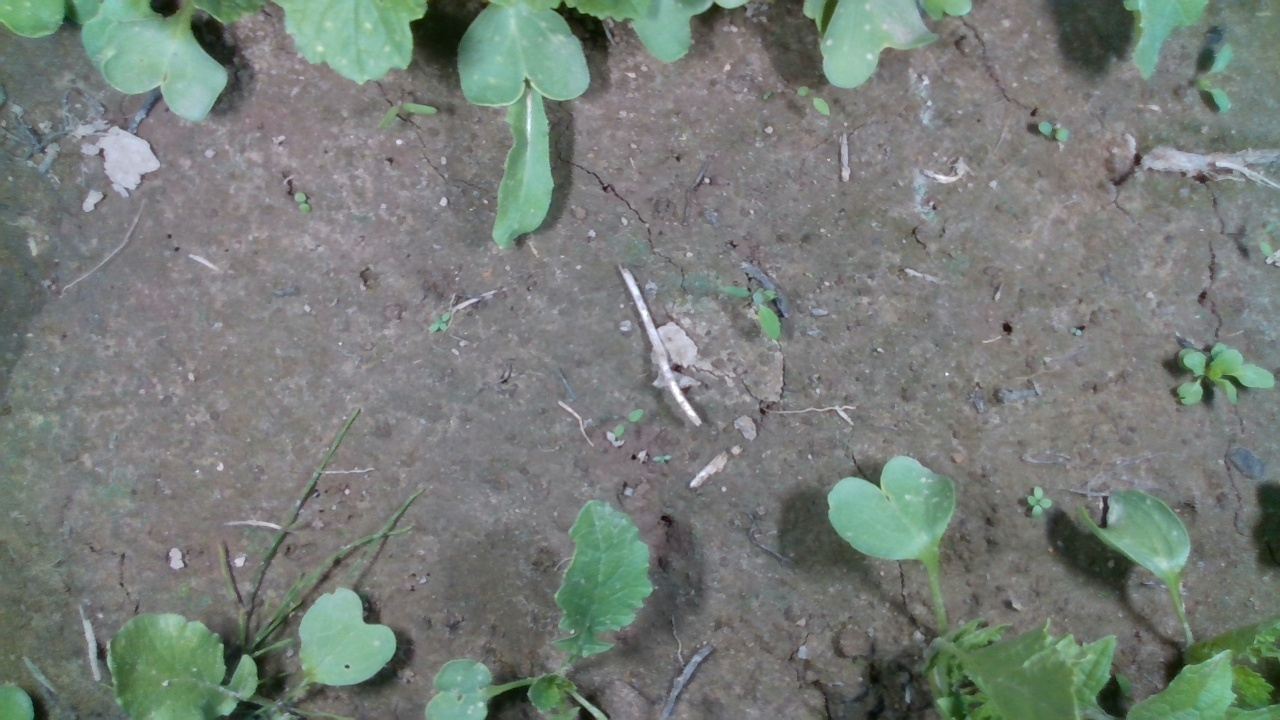weed: (717, 282, 784, 342), (1193, 39, 1236, 116), (375, 99, 438, 133), (794, 82, 833, 119), (608, 407, 645, 438), (1025, 483, 1053, 519), (1036, 119, 1073, 144), (292, 189, 313, 216), (647, 452, 675, 463)
